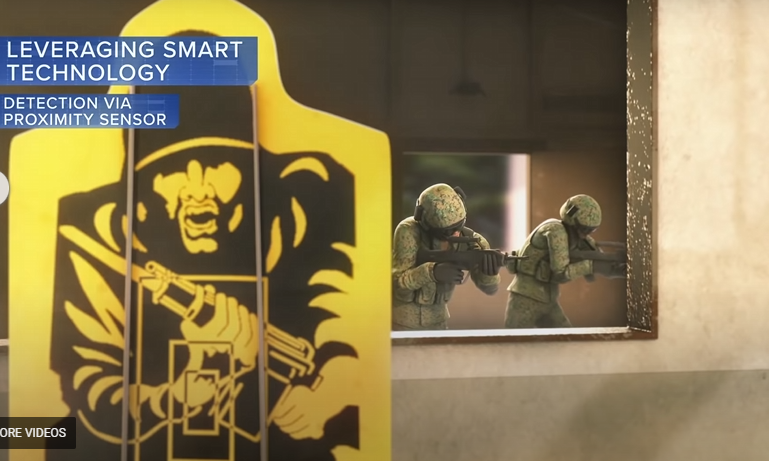HVT1: (12, 0, 391, 460)
